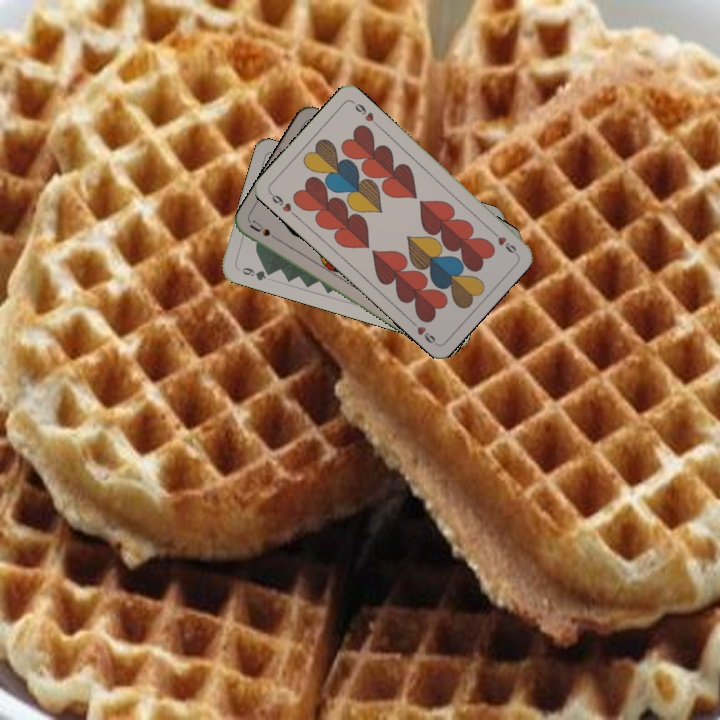G9: (234, 263, 275, 283)
H9: (266, 188, 299, 219), (486, 226, 519, 257)
SU: (246, 216, 284, 245)
